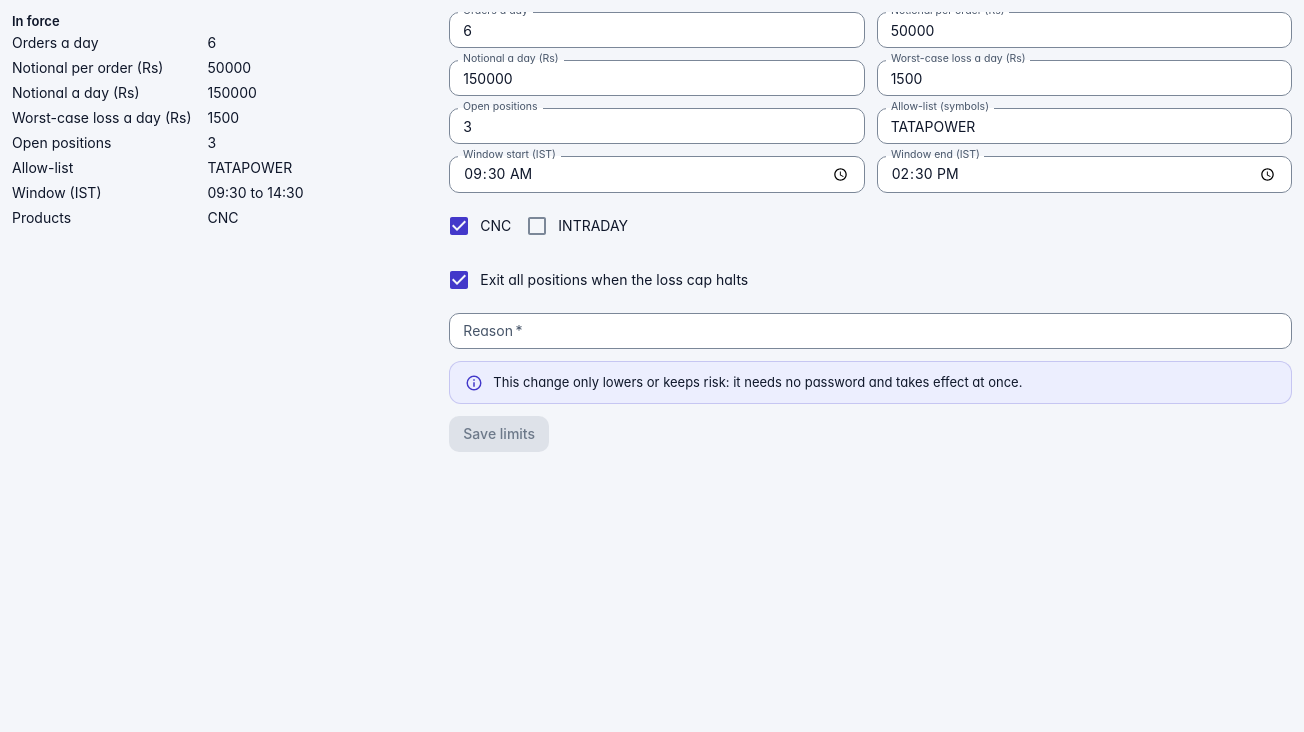
Limits form › treats a lower cap as immediate and sends no password
The width and height of the screenshot is (1304, 732).
Replace the text in the number field labelled "Orders a day" with "4" at (657, 30), box top-left (449, 12), bottom-right (865, 48)
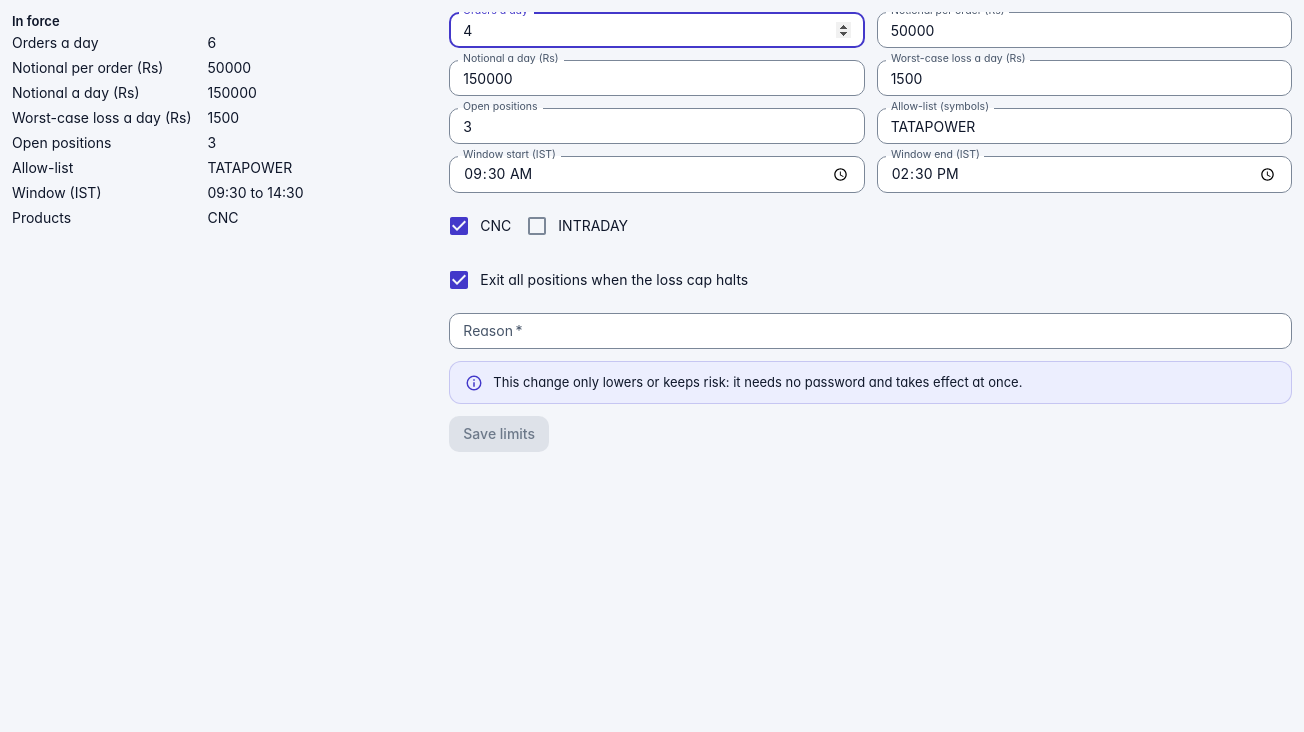
Type "less" into the field labelled "Reason *" at (871, 331), box top-left (449, 312), bottom-right (1292, 349)
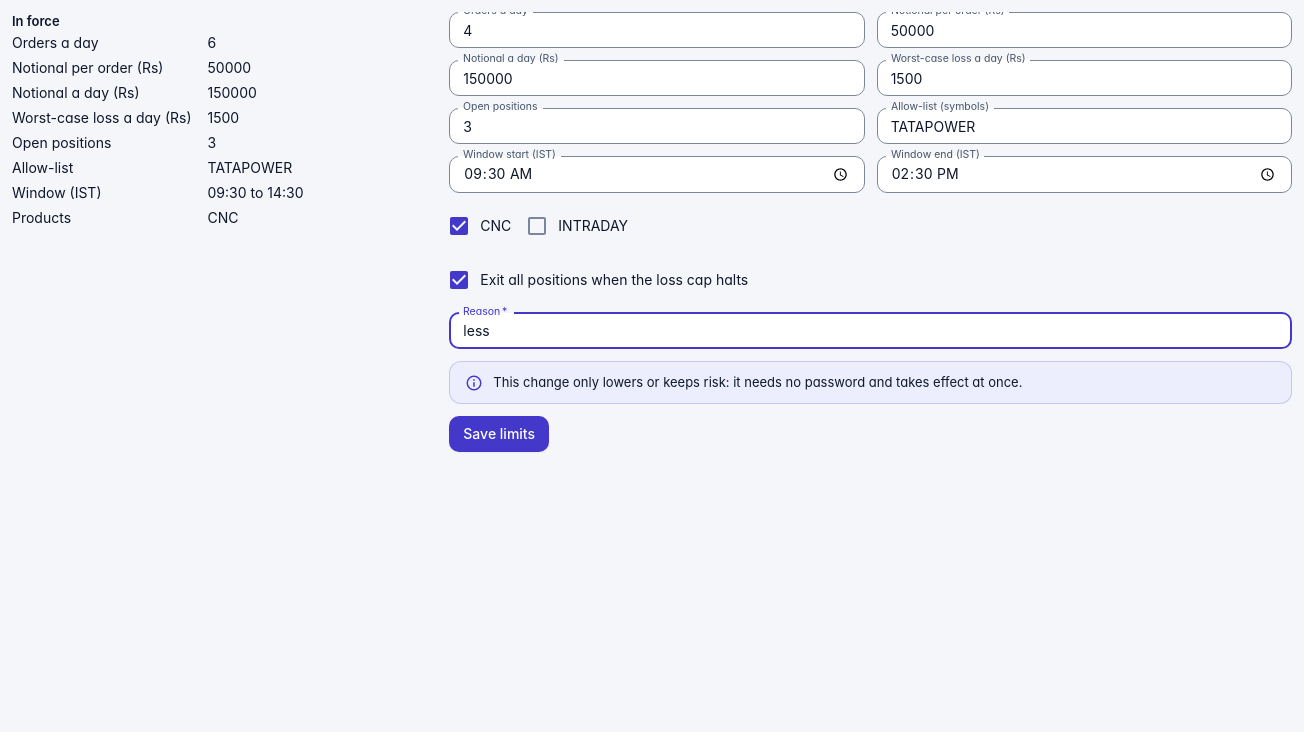
Click the button "Save limits" at (499, 434), box top-left (449, 416), bottom-right (549, 452)
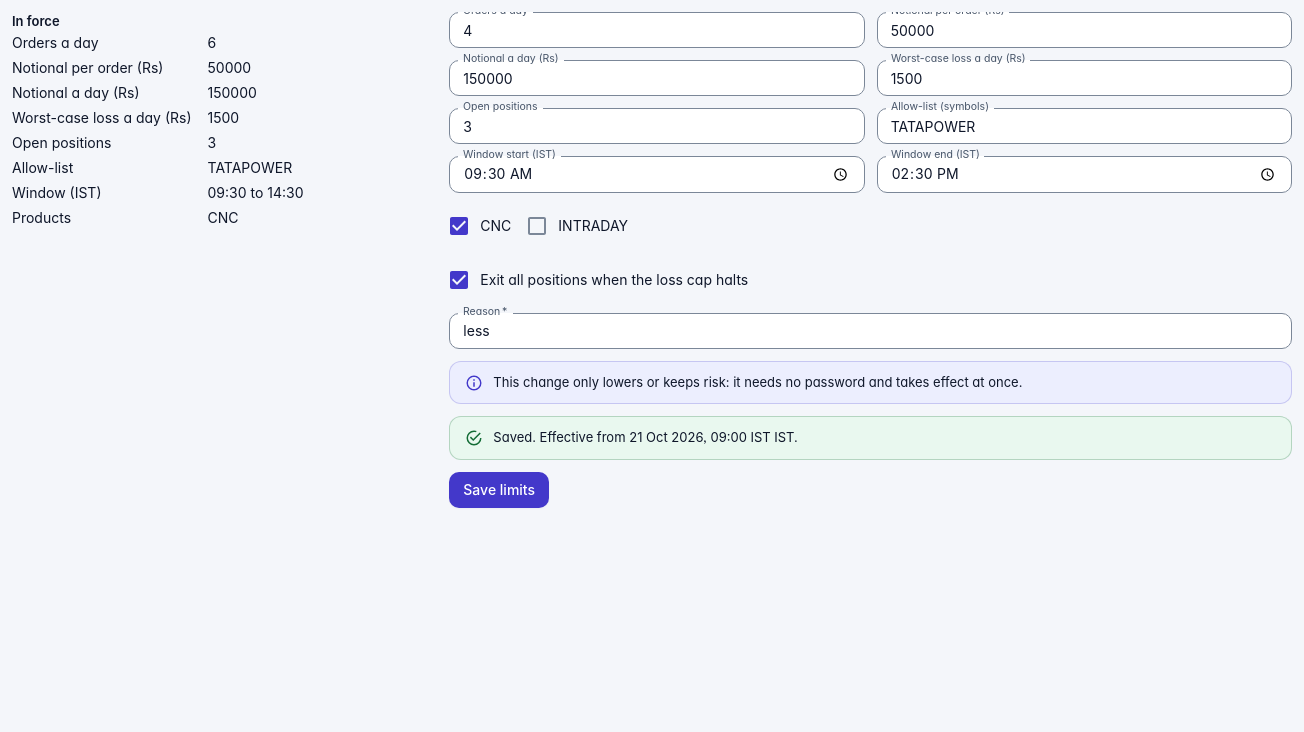
Check: the text "Saved. Effective from 21 Oct 2026, 09:00 IST IST." is shown, box top-left (493, 428), bottom-right (798, 448)
